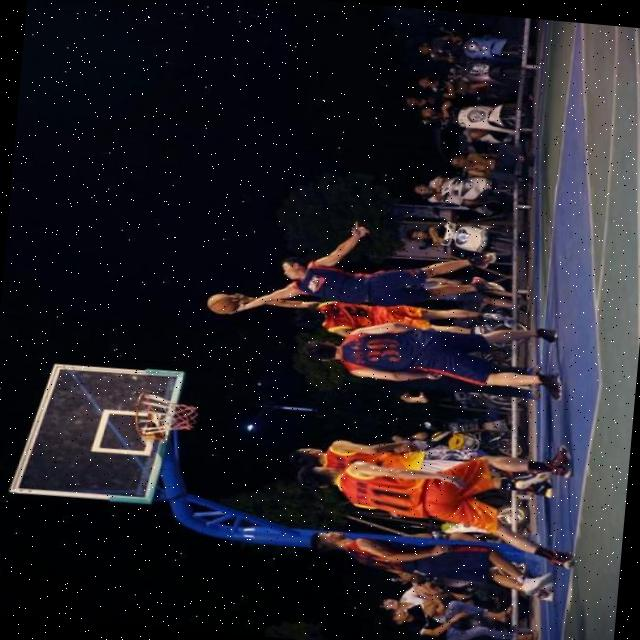ball: (206, 290, 238, 314)
hoop: (130, 386, 154, 441)
